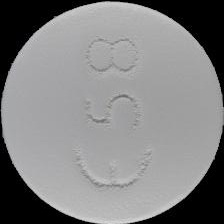50268-324: (0, 0, 224, 224)
